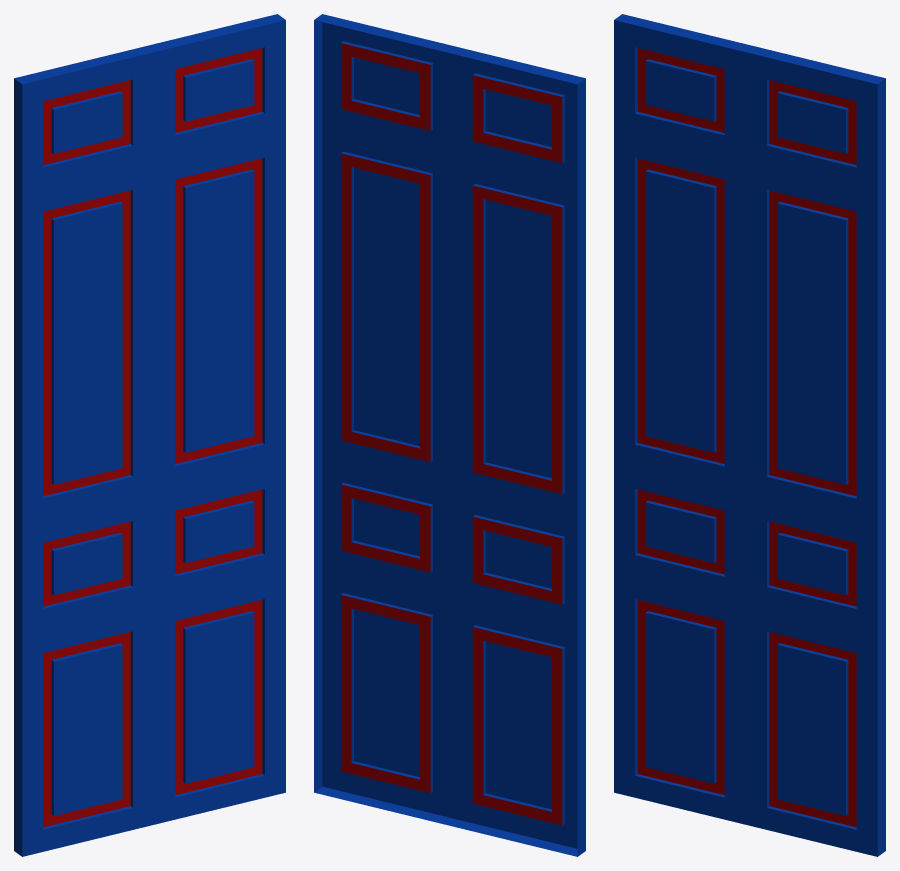
The model's file is SmallDoor01.fbx.
3 views of the same model, side by side, from view 1: azimuth 30°, elevation 25°; view 2: azimuth 150°, elevation 25°; view 3: azimuth 330°, elevation 25° (orthographic).
Parts seen in each view (by area): view 1: SmallDoor01; view 2: SmallDoor01; view 3: SmallDoor01.
Part boxes in pixels (x1,y1,x2,y2): SmallDoor01: (14, 14, 285, 856); SmallDoor01: (314, 14, 585, 856); SmallDoor01: (614, 14, 885, 856).
Size of the model in its own units: 125 by 350 by 6.8.
